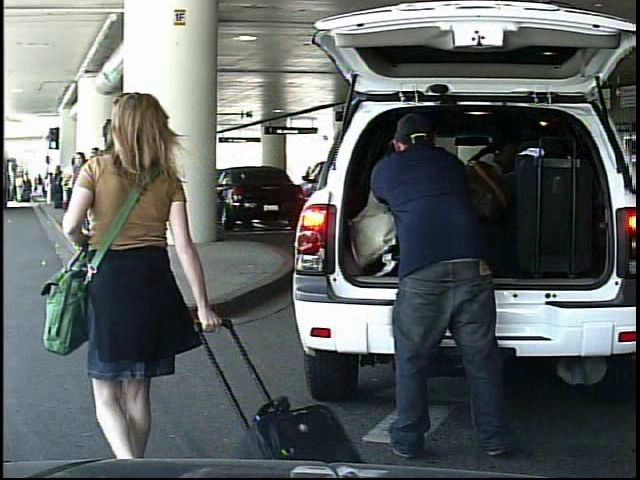person: (86, 85, 243, 454), (366, 107, 522, 462), (300, 163, 315, 203), (14, 173, 25, 204), (36, 174, 46, 201)
